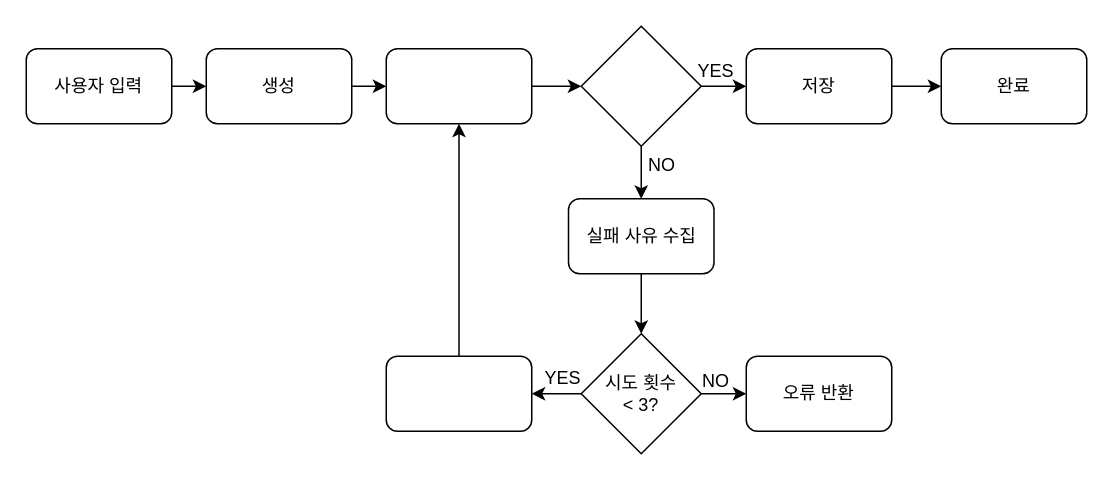
Image size: 1113x480. Some labels were removed from this diagram. The box of each missing label's shape, as (x1, y1, x2, y2) in pixels:
검증: (385, 47, 532, 124)
재생성: (385, 355, 532, 431)
통과?: (580, 25, 701, 146)
